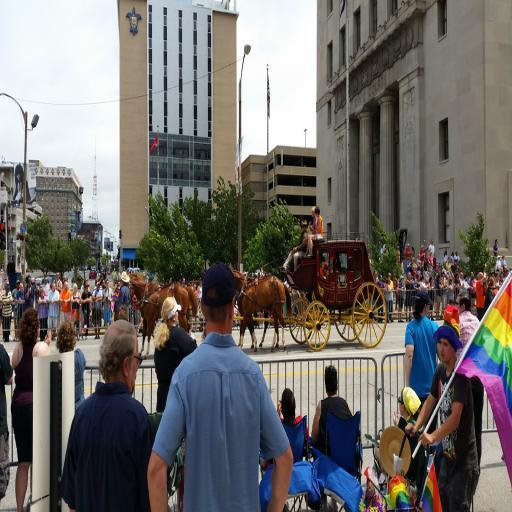horse: (126, 274, 197, 362), (228, 271, 292, 353)
